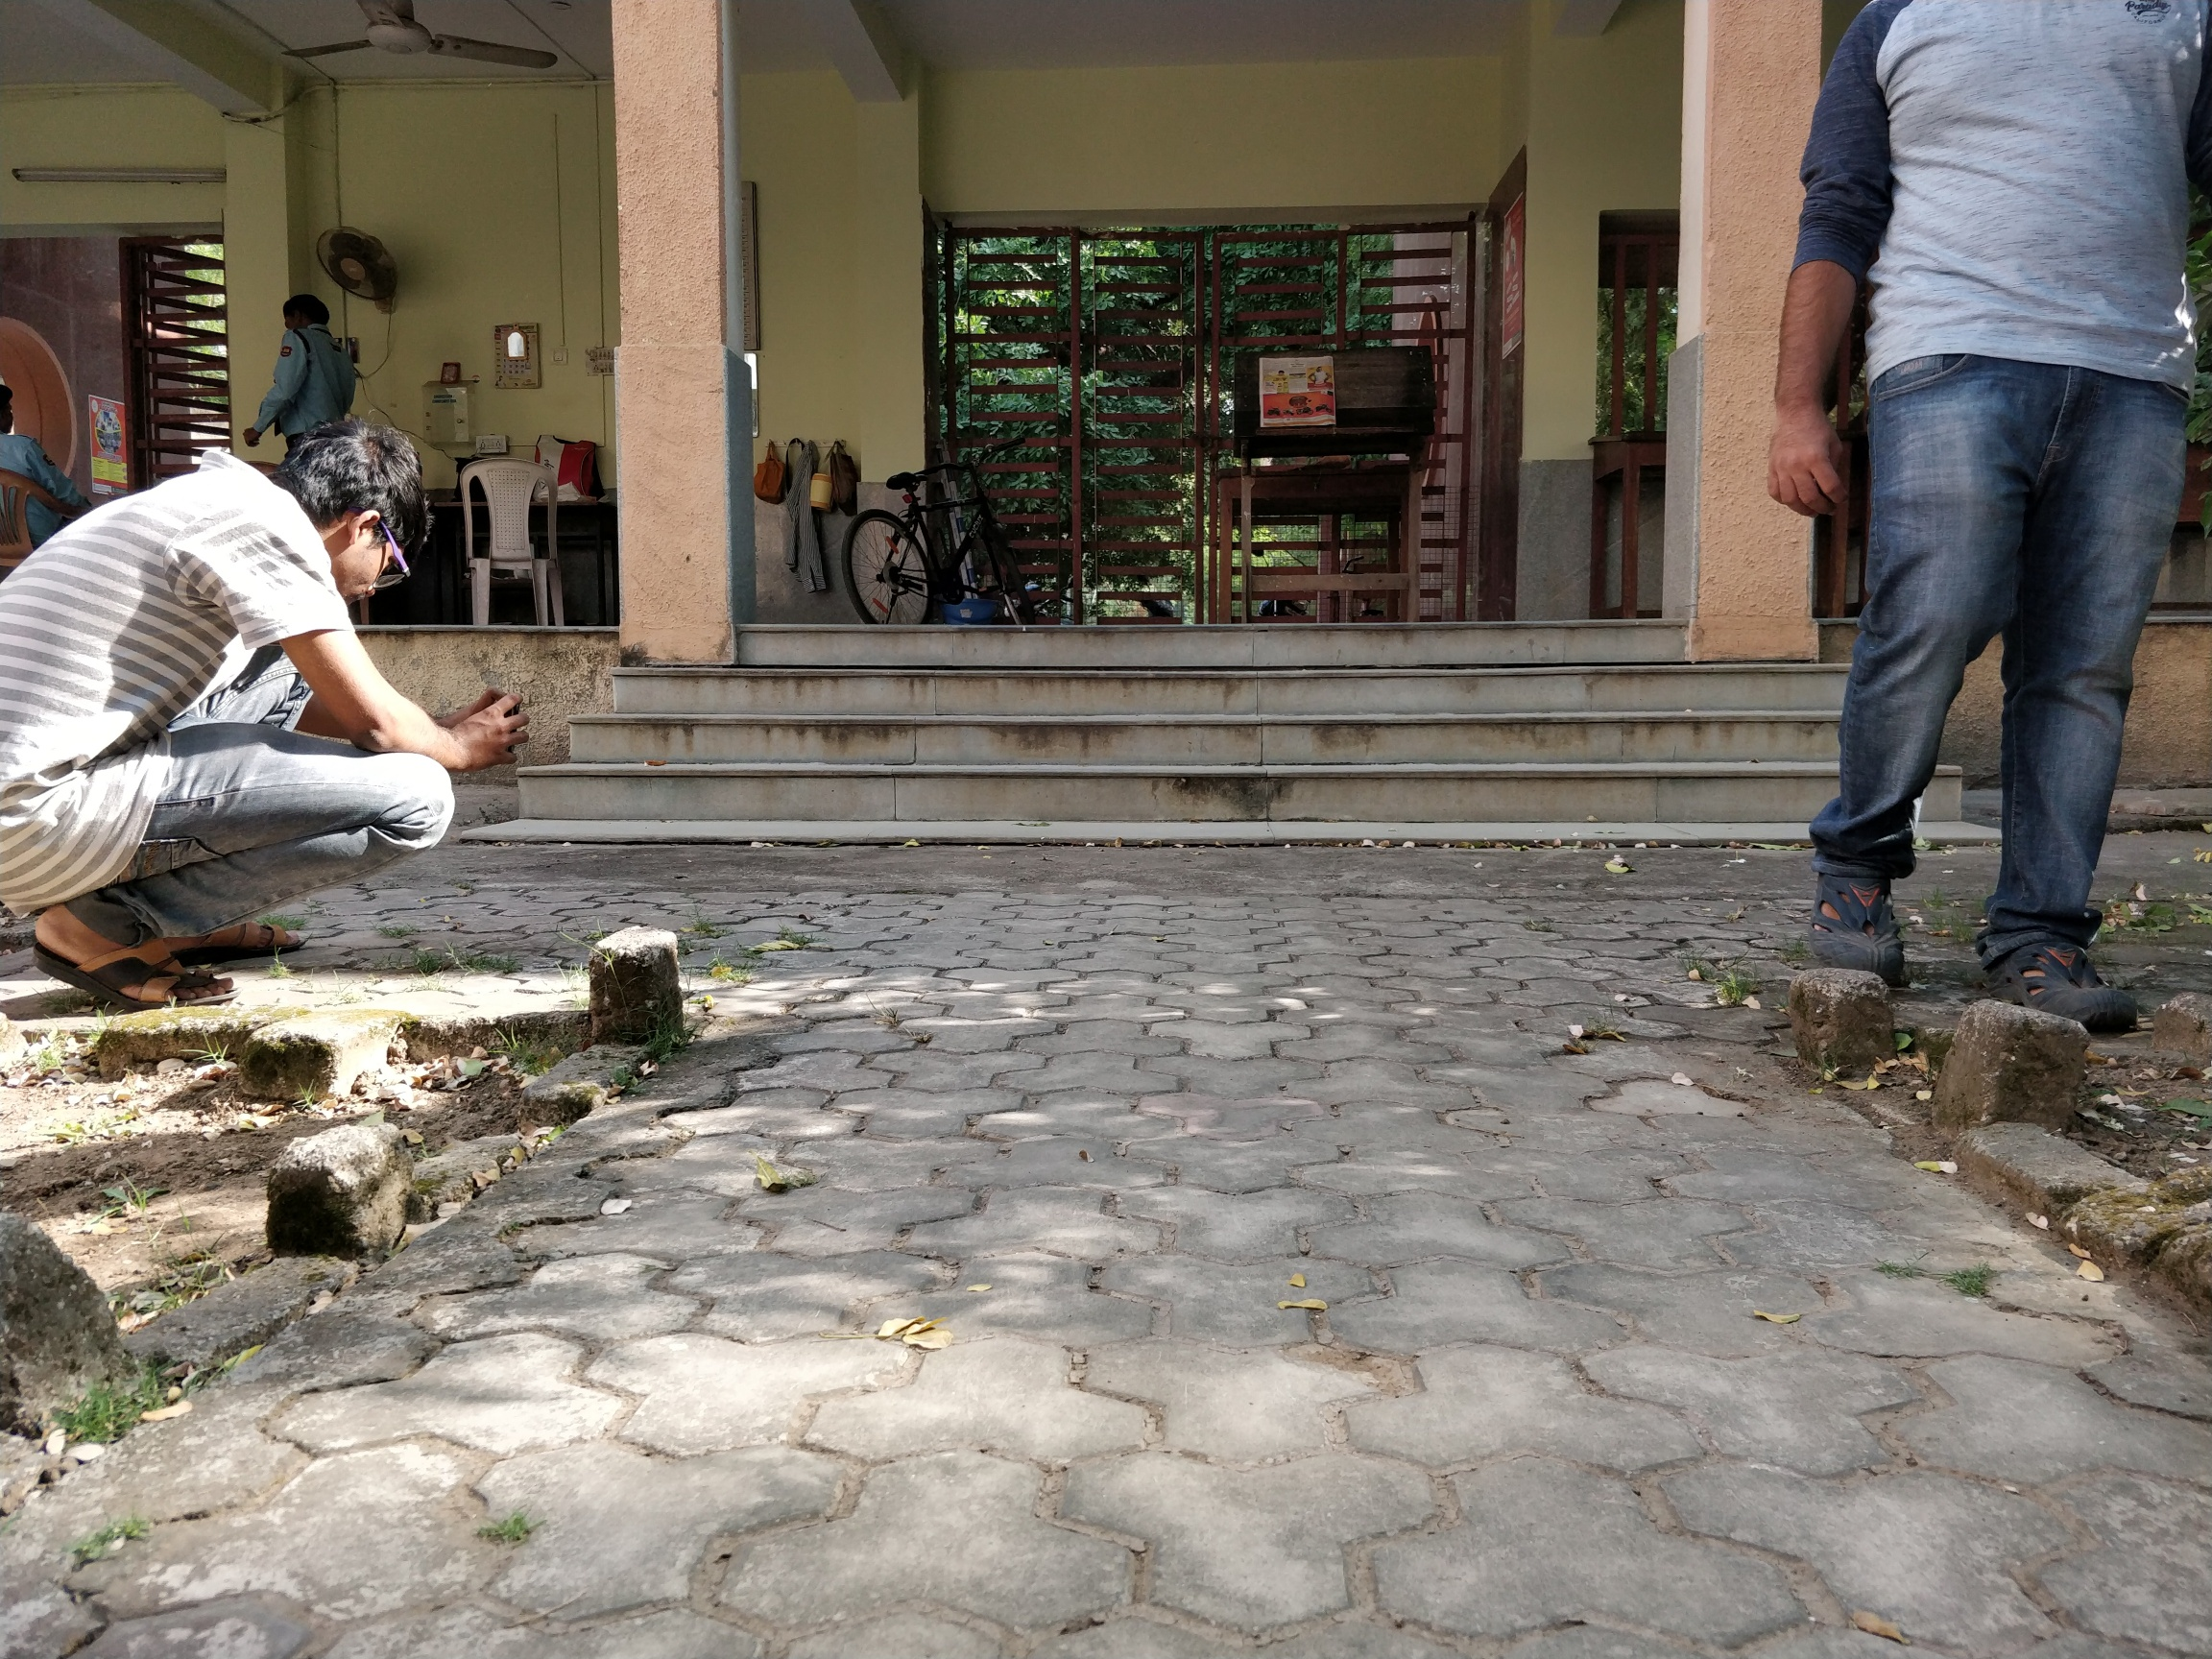stairs_up: (474, 622, 1970, 857)
